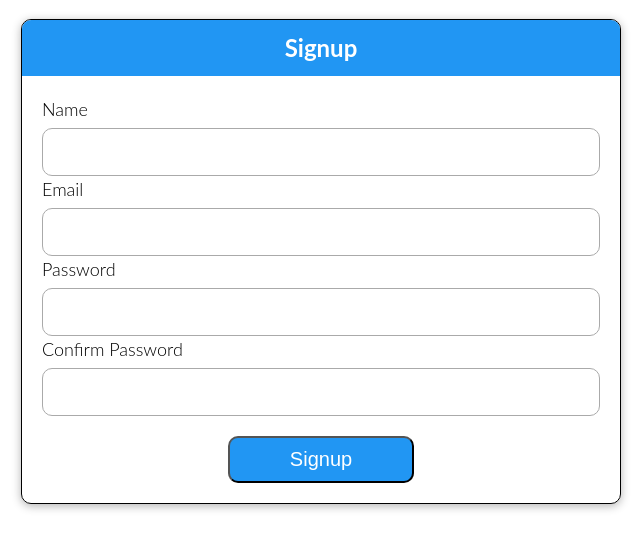
<Signup> › it should return an error
Type "name" into the field labelled "Name" at (321, 152), box [42,128,600,176]
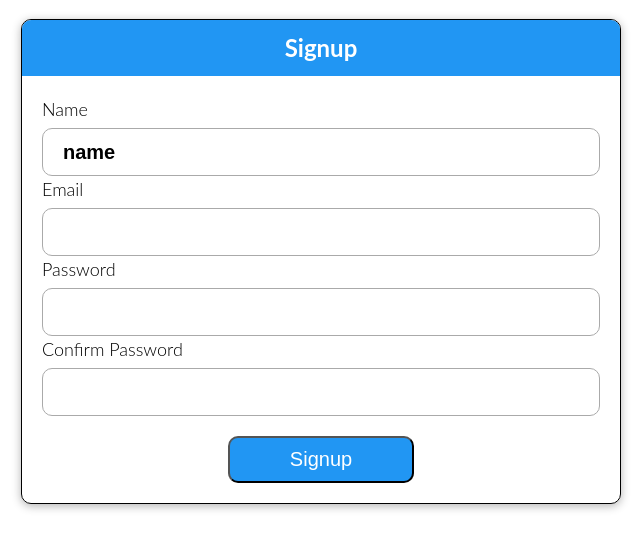
Type "email" into the field labelled "Email" at (321, 232), box [42,208,600,256]
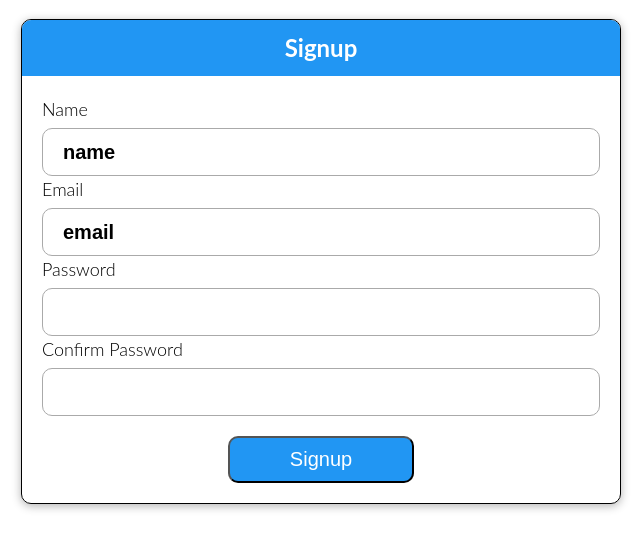
Type "confirmPassword" into the field labelled "Confirm Password" at (321, 392), box [42,368,600,416]
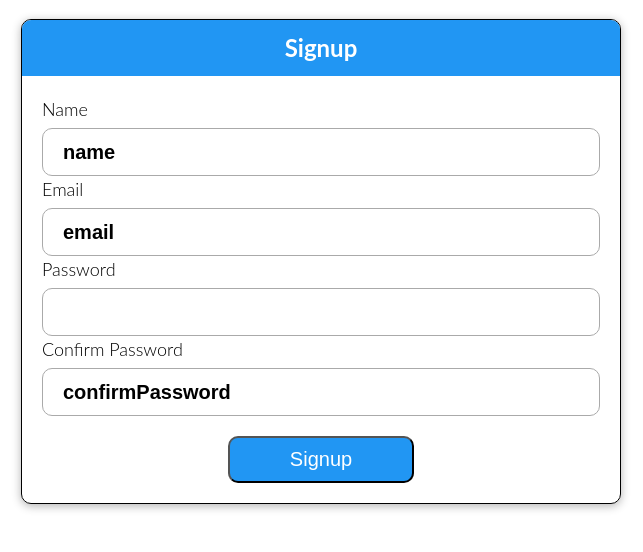
Type "password" into the field labelled "Password" at (321, 312), box [42,288,600,336]
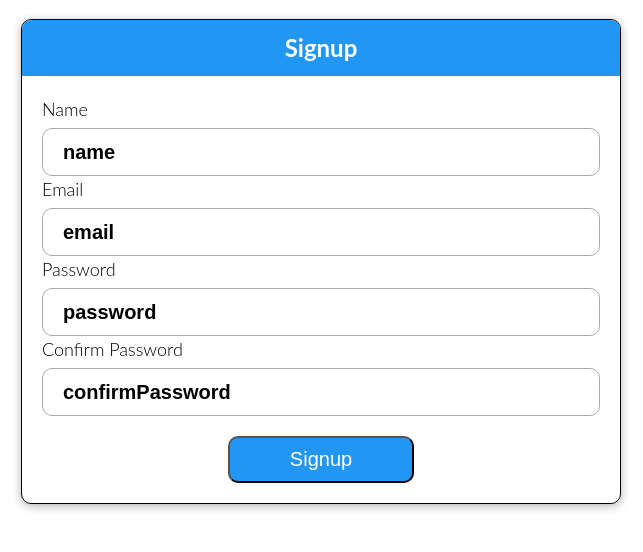
Submit the form with test id "signup-form"
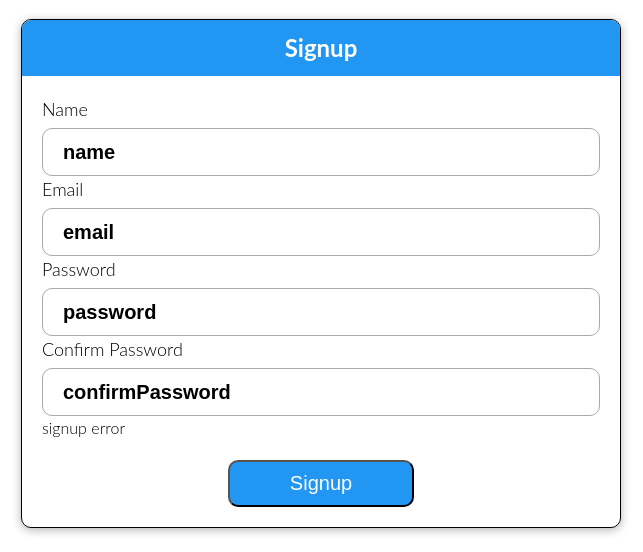
expect the text with test id "signup-error" reads "signup error": met, box [42,418,125,437]
